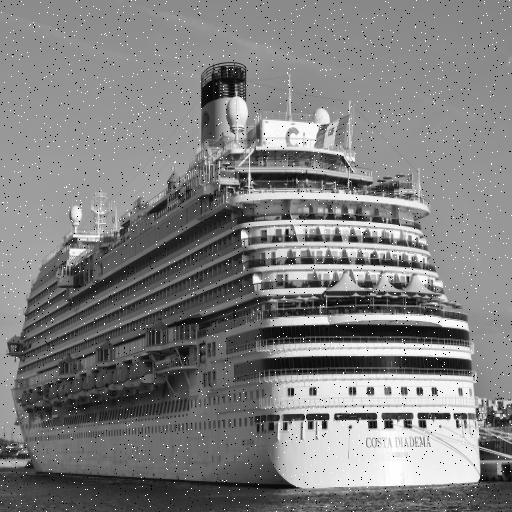cruises: (6, 55, 485, 498)
